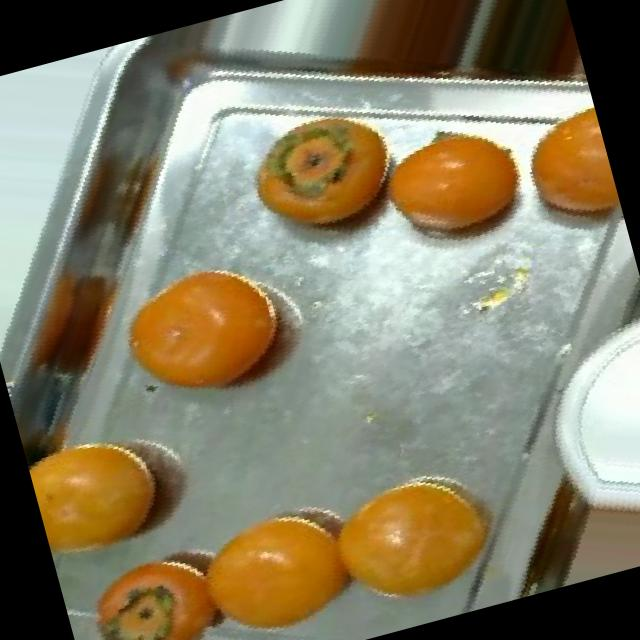Fruit: (300, 431, 549, 640), (102, 221, 337, 435), (216, 78, 437, 286), (19, 386, 233, 588), (173, 468, 411, 640), (352, 95, 562, 282), (54, 517, 271, 640), (490, 94, 628, 258)
